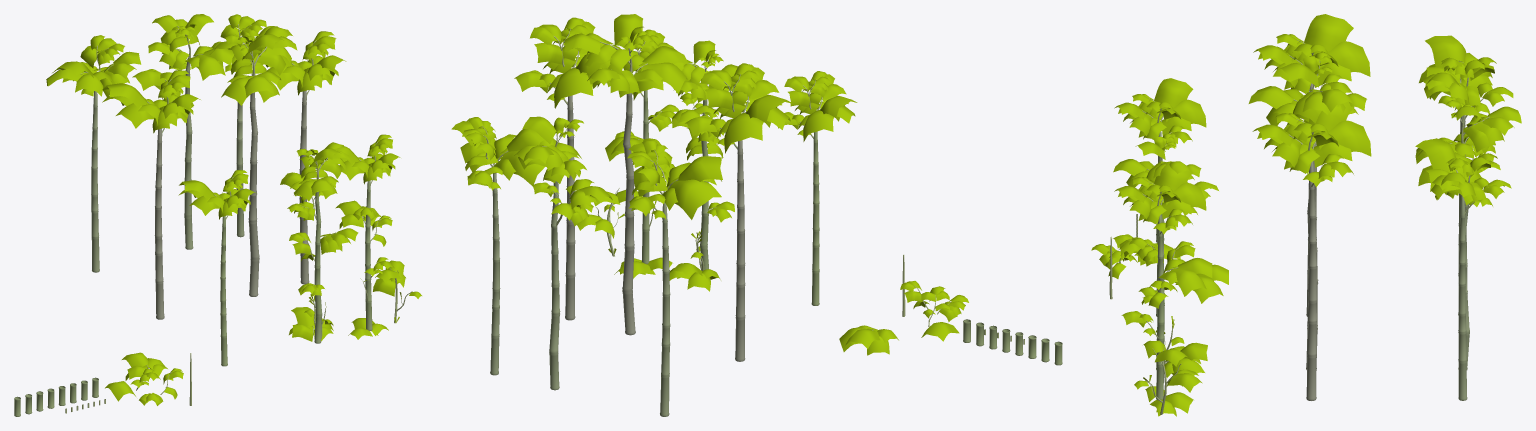
File: bamboo.glb
The picture shows the model from 3 angles, left to right: view 1: azimuth 30°, elevation 25°; view 2: azimuth 150°, elevation 25°; view 3: azimuth 270°, elevation 25°; orthographic projection. The views are drawn at different scales.
Visible parts, largest first — view 1: bambooBlock.016_13, bambooBlock.010_19, bambooBlock.013_16, bambooBlock.011_18, bambooBlock.014_15, bambooBlock.015_14, bambooBlock.009_20, bambooBlock.008_21, bambooBlock.012_17, bambooBranch.008_4, bambooBranch.020_0; view 2: bambooBlock.010_19, bambooBlock.011_18, bambooBlock.014_15, bambooBlock.013_16, bambooBlock.009_20, bambooBlock.012_17, bambooBlock.016_13, bambooBlock.008_21, bambooBlock.015_14, bambooBranch.020_0, bambooBranch.008_4; view 3: bambooBlock.015_14, bambooBlock.009_20, bambooBlock.012_17, bambooBlock.011_18, bambooBlock.014_15, bambooBlock.016_13, bambooBlock.010_19, bambooBlock.008_21, bambooBlock.013_16, bambooBranch.008_4, bambooBranch.020_0.
Part boxes in pixels (bbox=[...]): bambooBlock.016_13: bbox=[280, 142, 358, 343]; bambooBlock.010_19: bbox=[221, 26, 297, 296]; bambooBlock.013_16: bbox=[132, 14, 233, 249]; bambooBlock.011_18: bbox=[102, 70, 200, 319]; bambooBlock.014_15: bbox=[46, 35, 141, 272]; bambooBlock.015_14: bbox=[324, 134, 400, 339]; bambooBlock.009_20: bbox=[254, 31, 346, 284]; bambooBlock.008_21: bbox=[178, 170, 256, 366]; bambooBlock.012_17: bbox=[196, 14, 277, 237]; bambooBranch.008_4: bbox=[373, 260, 421, 323]; bambooBranch.020_0: bbox=[122, 352, 167, 380]; bambooBlock.010_19: bbox=[564, 14, 688, 335]; bambooBlock.011_18: bbox=[685, 63, 793, 361]; bambooBlock.014_15: bbox=[627, 139, 723, 416]; bambooBlock.013_16: bbox=[514, 116, 612, 390]; bambooBlock.009_20: bbox=[514, 17, 611, 320]; bambooBlock.012_17: bbox=[451, 117, 553, 375]; bambooBlock.016_13: bbox=[669, 40, 737, 291]; bambooBlock.008_21: bbox=[778, 71, 857, 305]; bambooBlock.015_14: bbox=[605, 29, 678, 278]; bambooBranch.020_0: bbox=[839, 325, 898, 355]; bambooBranch.008_4: bbox=[577, 188, 638, 256]; bambooBlock.015_14: bbox=[1114, 161, 1212, 416]; bambooBlock.009_20: bbox=[1252, 101, 1371, 400]; bambooBlock.012_17: bbox=[1415, 138, 1511, 400]; bambooBlock.011_18: bbox=[1253, 14, 1370, 316]; bambooBlock.014_15: bbox=[1419, 35, 1513, 315]; bambooBlock.016_13: bbox=[1113, 133, 1218, 386]; bambooBlock.010_19: bbox=[1248, 52, 1366, 369]; bambooBlock.008_21: bbox=[1114, 78, 1206, 316]; bambooBlock.013_16: bbox=[1415, 95, 1521, 369]; bambooBranch.008_4: bbox=[1134, 340, 1202, 414]; bambooBranch.020_0: bbox=[1175, 264, 1228, 303].
Bounding box in the file's own units: 72.67 × 47.04 × 56.86.
